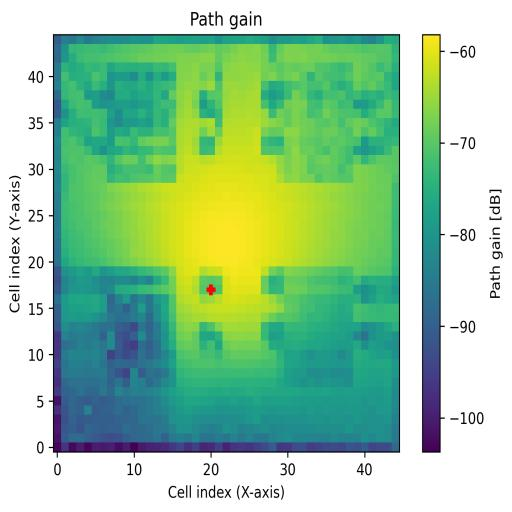Concrete: (274, 63, 354, 184)
Glass: (104, 62, 178, 183)
Metal: (283, 268, 353, 388)
Wood: (99, 267, 178, 388)
